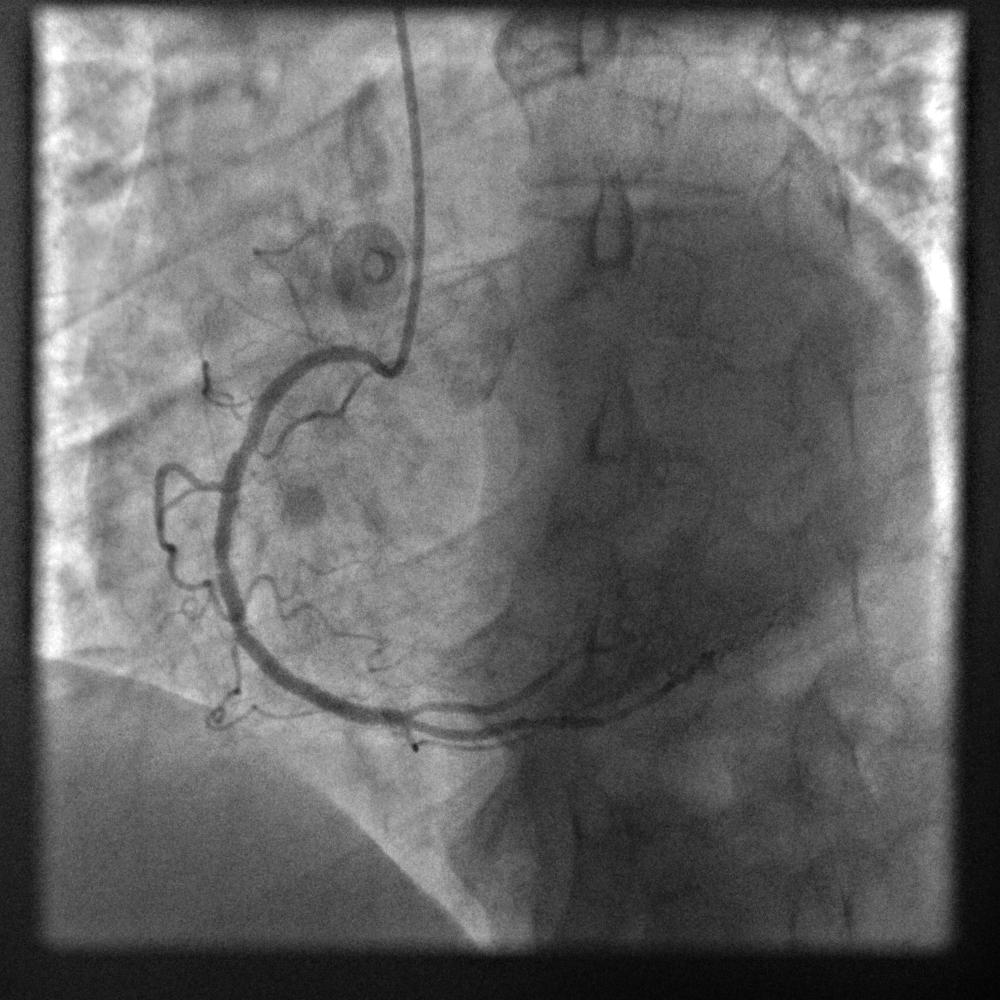Stenosis: (225, 407, 270, 472)
